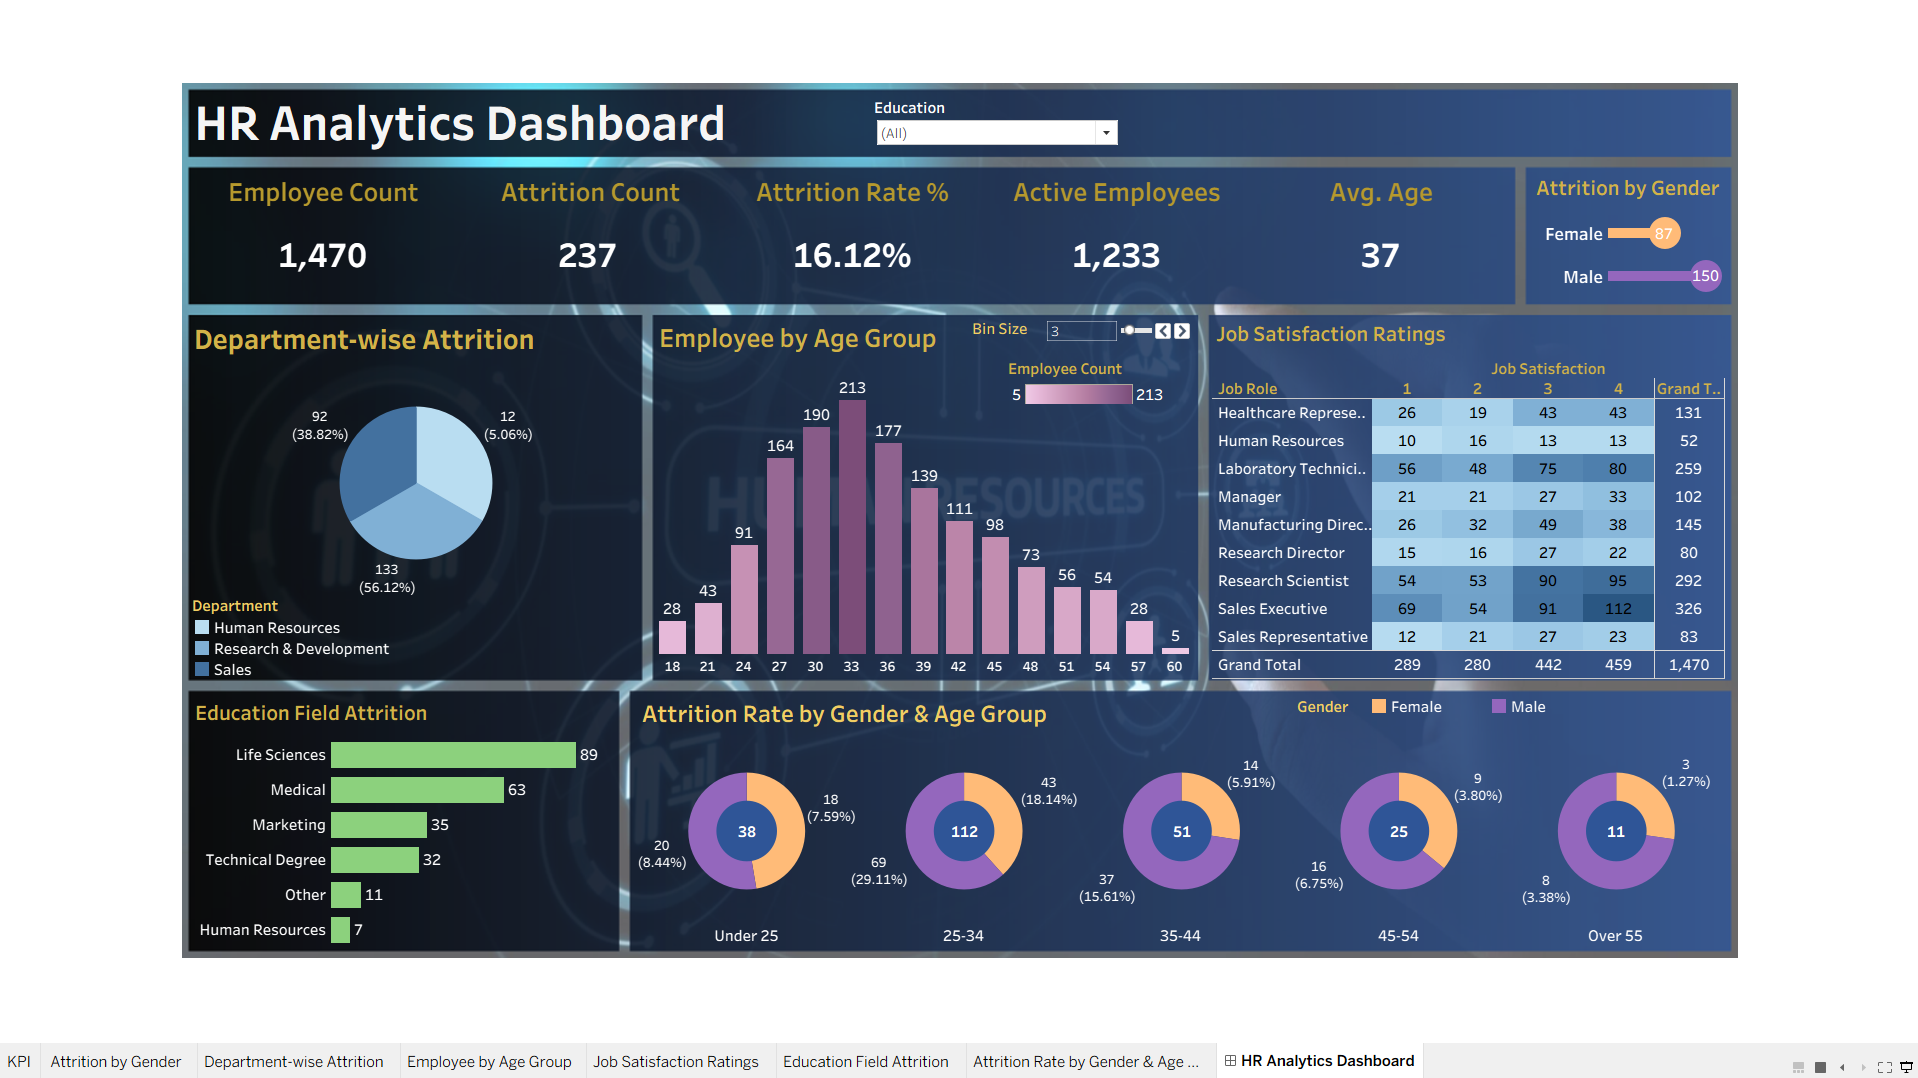

The page's visual inventory and layout, read from the dashboard file:
{"tool":"tableau","page":{"name":"HR Analytics Dashboard","canvas":[1580,900],"ordinal":0},"visuals":[{"type":"image","param":"Image/HR background.pptx.png","box":[8,8,1564,884]},{"type":"text","box":[21,16,1538,68]},{"type":"filter","title":"Department-wise Attrition","param":"[federated.1ljwm4b0gt83et1f444gw04sd86y].[none:Calculation_0874668252459012:nk]","box":[704,26,247,50]},{"type":"worksheet","title":"KPI","mark":"Automatic","box":[21,97,1323,133]},{"type":"worksheet","title":" Attrition by Gender","mark":"Circle","rows":["Gender"],"cols":["Calculation_0874668246257665","Calculation_0874668246257665"],"box":[1358,98,199,128]},{"type":"worksheet","title":"Job Satisfaction Ratings","mark":"Square","rows":["JobRole"],"cols":["JobSatisfaction"],"box":[1042,244,513,364]},{"type":"worksheet","title":"Department-wise Attrition","mark":"Pie","box":[20,245,452,282]},{"type":"worksheet","title":"Employee by Age Group","mark":"Automatic","rows":["EmployeeCount"],"cols":["Age (bin)"],"box":[485,245,538,360]},{"type":"parameter","param":"[Parameters].[Parameter 1]","box":[802,247,221,37]},{"type":"legend","title":"Employee by Age Group","param":"[federated.1ljwm4b0gt83et1f444gw04sd86y].[sum:EmployeeCount:qk]","box":[838,287,160,46]},{"type":"legend","title":"Department-wise Attrition","param":"[federated.1ljwm4b0gt83et1f444gw04sd86y].[none:Department:nk]","box":[22,524,207,85]},{"type":"worksheet","title":"Attrition Rate by Gender & Age Group","mark":"Pie","rows":["Calculation_1845262249828354","Calculation_1845262249828354"],"cols":["Calculation_1845262248910848"],"box":[468,622,1087,254]},{"type":"worksheet","title":"Education Field Attrition","mark":"Automatic","rows":["EducationField"],"cols":["Calculation_0874668246257665"],"box":[21,623,423,253]},{"type":"legend","title":"Attrition Rate by Gender & Age Group","param":"[federated.1ljwm4b0gt83et1f444gw04sd86y].[none:Gender:nk]","box":[1127,625,429,40]}]}

Visuals, with their boxes on the page's 1580x900 design canvas (x1, y1, x2, y2). These are canvas units, not pixel positions in the 1918x1078 screenshot, which may show the page scaled, cropped or inside an application window:
image: 8/8/1572/892
text: 21/16/1559/84
"Department-wise Attrition" filter: 704/26/951/76
"KPI" worksheet: 21/97/1344/230
" Attrition by Gender" worksheet (Circle marks): 1358/98/1557/226
"Job Satisfaction Ratings" worksheet (Square marks): 1042/244/1555/608
"Department-wise Attrition" worksheet (Pie marks): 20/245/472/527
"Employee by Age Group" worksheet: 485/245/1023/605
parameter: 802/247/1023/284
"Employee by Age Group" legend: 838/287/998/333
"Department-wise Attrition" legend: 22/524/229/609
"Attrition Rate by Gender & Age Group" worksheet (Pie marks): 468/622/1555/876
"Education Field Attrition" worksheet: 21/623/444/876
"Attrition Rate by Gender & Age Group" legend: 1127/625/1556/665
